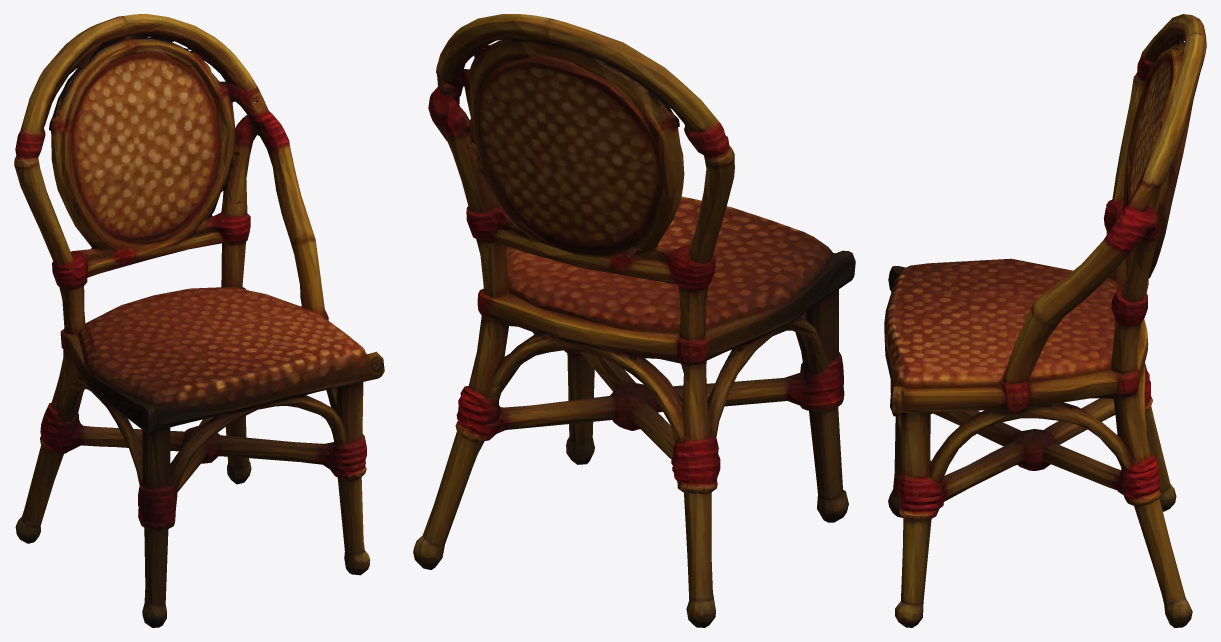
3 renders of one model, left to right at view 1: azimuth 30°, elevation 25°; view 2: azimuth 150°, elevation 25°; view 3: azimuth 270°, elevation 25°, orthographic. The views are drawn at different scales.
Parts seen in each view (by area): view 1: world; view 2: world; view 3: world.
Boxes of the visible parts, x1=… form: world: x1=14, y1=14, x2=384, y2=627; world: x1=413, y1=14, x2=855, y2=627; world: x1=884, y1=14, x2=1206, y2=627.
Bounding box in the file's own units: 0.5588 × 0.9992 × 0.5446.
1 material, 1 textured.
